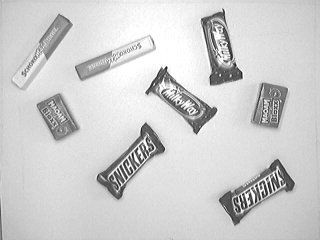Maoam: (35, 92, 80, 141), (249, 81, 292, 130)
Milkyway: (142, 64, 219, 135), (199, 6, 247, 88)
Riegel: (10, 12, 74, 90), (73, 32, 160, 84)
Snickers: (93, 120, 167, 202), (216, 157, 297, 228)
